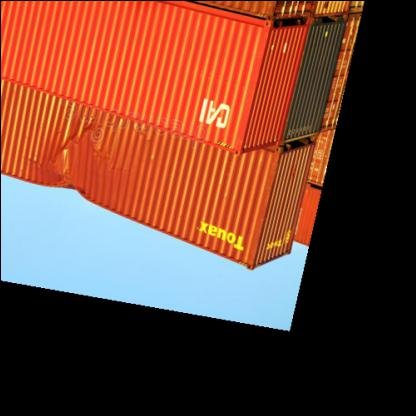Damage: (42, 126, 105, 204)
